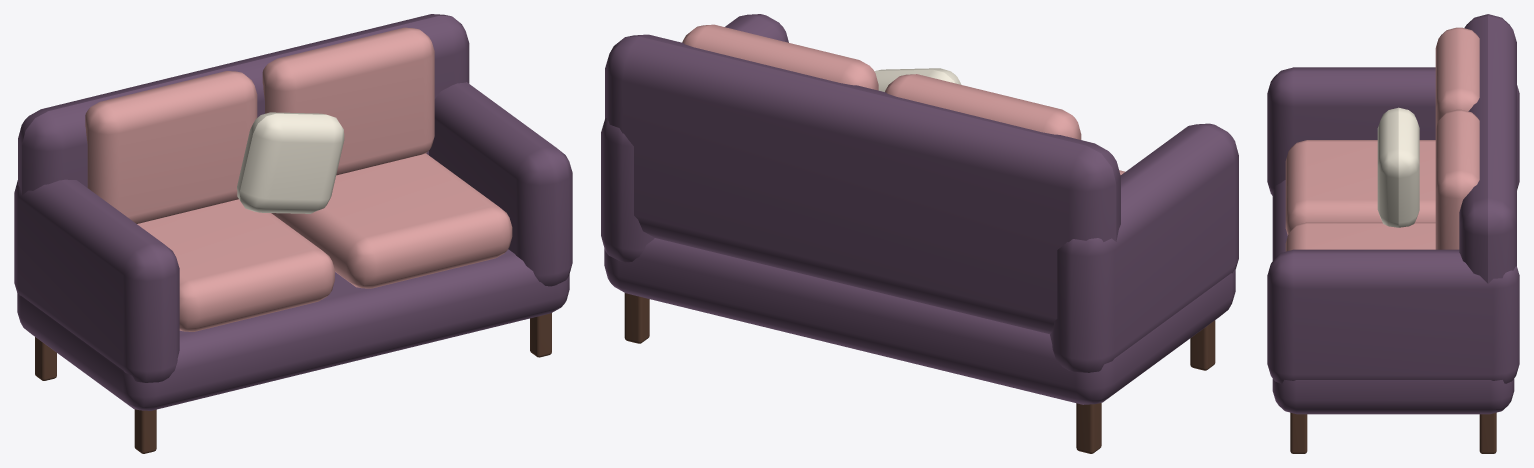
The model's file is loveseat.glb.
3 views of the same model, side by side, from view 1: azimuth 30°, elevation 25°; view 2: azimuth 150°, elevation 25°; view 3: azimuth 270°, elevation 25° (orthographic). The views are drawn at different scales.
Visible parts, largest first — view 1: Loveseat base, Rounded arm.002, Back cushion.001, Seat cushion.002, Back cushion.002, Seat cushion.001, Rounded arm.003, Upholstered back, Linen scatter cushion, Tapered leg.005, Tapered leg.007, Tapered leg.004; view 2: Upholstered back, Loveseat base, Rounded arm.002, Rounded arm.003, Back cushion.001, Back cushion.002, Tapered leg.004, Tapered leg.006, Tapered leg.005, Linen scatter cushion; view 3: Rounded arm.003, Rounded arm.002, Upholstered back, Seat cushion.001, Loveseat base, Back cushion.002, Linen scatter cushion, Seat cushion.002, Back cushion.001, Tapered leg.006, Tapered leg.007.
Part boxes in pixels (bbox=[...]): Loveseat base: bbox=[17, 249, 569, 410]; Rounded arm.002: bbox=[14, 179, 179, 382]; Back cushion.001: bbox=[85, 71, 257, 223]; Seat cushion.002: bbox=[271, 153, 512, 288]; Back cushion.002: bbox=[262, 27, 434, 175]; Seat cushion.001: bbox=[137, 199, 334, 331]; Rounded arm.003: bbox=[429, 82, 572, 286]; Upholstered back: bbox=[18, 14, 469, 195]; Linen scatter cushion: bbox=[237, 112, 344, 213]; Tapered leg.005: bbox=[134, 409, 156, 453]; Tapered leg.007: bbox=[530, 313, 551, 357]; Tapered leg.004: bbox=[35, 337, 56, 380]; Upholstered back: bbox=[605, 34, 1120, 334]; Loveseat base: bbox=[604, 238, 1235, 404]; Rounded arm.002: bbox=[1050, 123, 1238, 372]; Rounded arm.003: bbox=[601, 14, 788, 262]; Back cushion.001: bbox=[885, 74, 1081, 139]; Back cushion.002: bbox=[682, 24, 878, 90]; Tapered leg.004: bbox=[1076, 403, 1101, 453]; Tapered leg.006: bbox=[624, 293, 649, 343]; Tapered leg.005: bbox=[1190, 320, 1215, 370]; Linen scatter cushion: bbox=[874, 68, 961, 91]; Rounded arm.003: bbox=[1267, 249, 1519, 383]; Rounded arm.002: bbox=[1267, 67, 1519, 195]; Upholstered back: bbox=[1459, 14, 1516, 283]; Seat cushion.001: bbox=[1285, 140, 1435, 235]; Loveseat base: bbox=[1272, 180, 1514, 414]; Back cushion.002: bbox=[1435, 109, 1479, 249]; Linen scatter cushion: bbox=[1377, 107, 1419, 227]; Seat cushion.002: bbox=[1285, 222, 1435, 251]; Back cushion.001: bbox=[1435, 27, 1479, 129]; Tapered leg.006: bbox=[1479, 412, 1496, 453]; Tapered leg.007: bbox=[1290, 412, 1307, 453].
Size of the model in its own units: 1.86 by 1.09 by 0.96.
